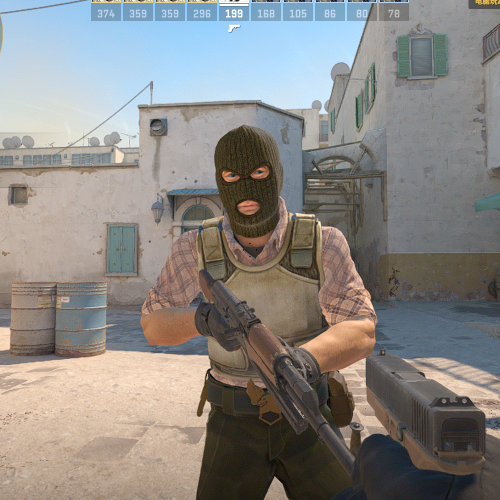t_body: (142, 124, 377, 499)
t_head: (211, 124, 283, 236)
